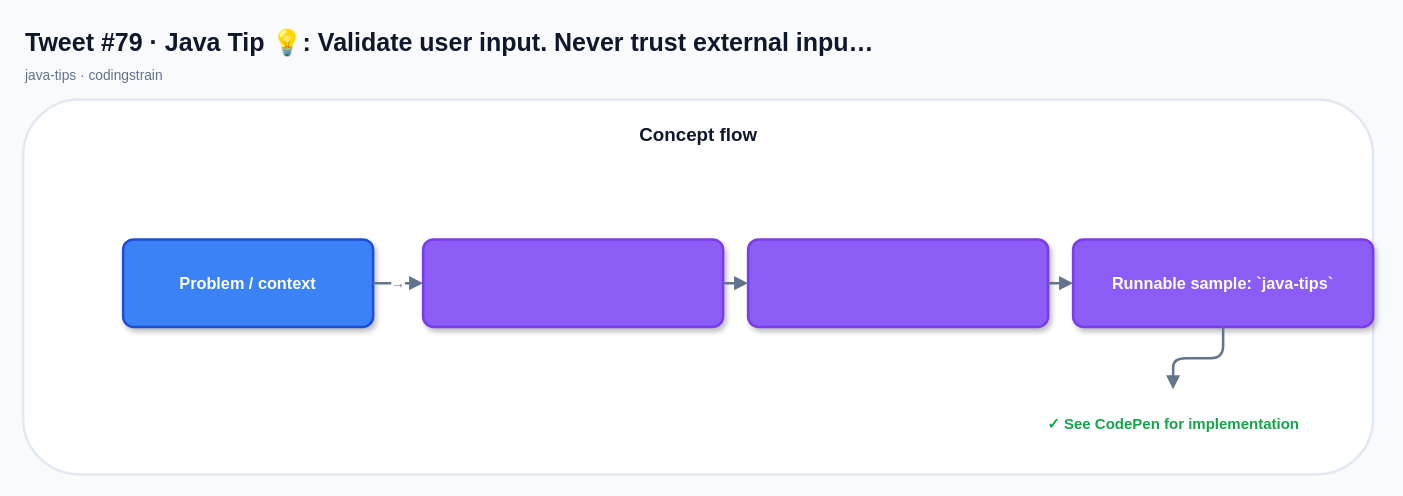
This 1403x496 diagram has some shape labels left out. The shapes that lost their labels are listed below. From the top down, each one's centre as x and y in pixels, then its label:
point 573,284: 💡 Java Tip 💡: Validate user input. Never trust external input directly
point 898,284: Java Tip 💡: Validate user input. Never trust external input directly.
